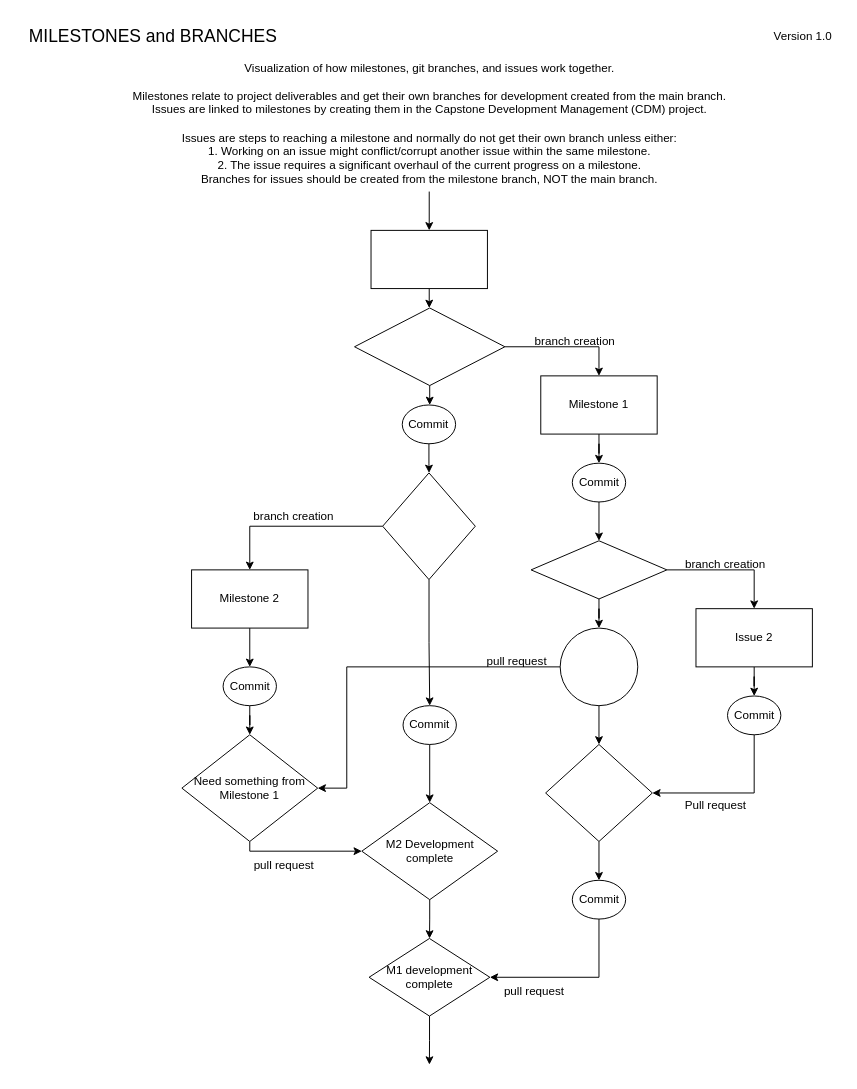
Image size: 857x1089. Some labels were removed from this diagram. Here are the shapes that lost their labels. From the top down, the box of each, then its label:
(370, 229, 487, 289): MAIN branch
(354, 307, 505, 386): Milestone 1 branch development begins
(382, 472, 475, 580): Milestone 2 development begins
(530, 540, 667, 599): issue 2 conflicts with issue 1
(559, 627, 638, 706): Fix conflict
(545, 744, 652, 841): Merge Issue 2 and Milestone 1
